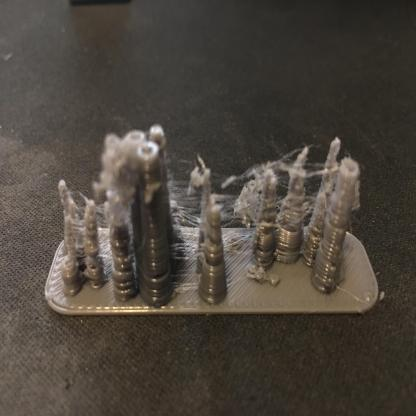fail: (173, 188, 200, 288), (223, 194, 255, 271)
